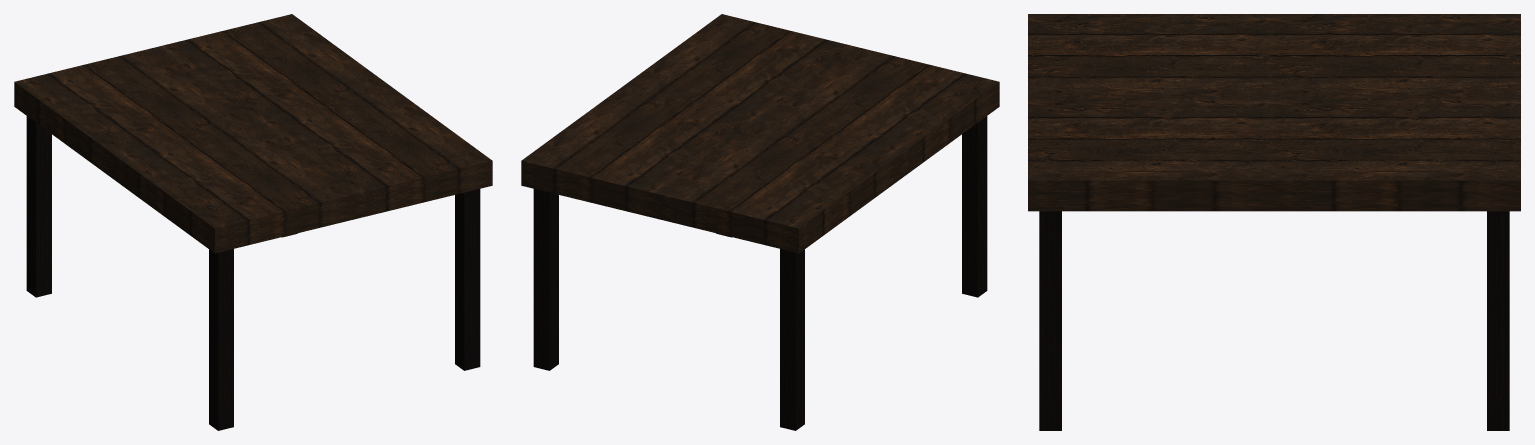
3 renders of one model, left to right at view 1: azimuth 30°, elevation 25°; view 2: azimuth 150°, elevation 25°; view 3: azimuth 270°, elevation 25°, orthographic. The views are drawn at different scales.
Parts seen in each view (by area): view 1: fixture-C-weight-rack; view 2: fixture-C-weight-rack; view 3: fixture-C-weight-rack.
Part boxes in pixels (box(x1,y1,x2,y2)): fixture-C-weight-rack: box(14, 14, 492, 430); fixture-C-weight-rack: box(521, 14, 999, 430); fixture-C-weight-rack: box(1028, 14, 1520, 430).
Size of the model in its own units: 1.4 by 1 by 1.75.
Materials: 2 (2 with a texture image).
